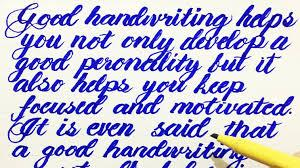text: (4, 1, 300, 39), (6, 49, 283, 83), (11, 28, 295, 61), (8, 93, 297, 123), (12, 71, 249, 105), (6, 117, 284, 145), (10, 138, 249, 168)
